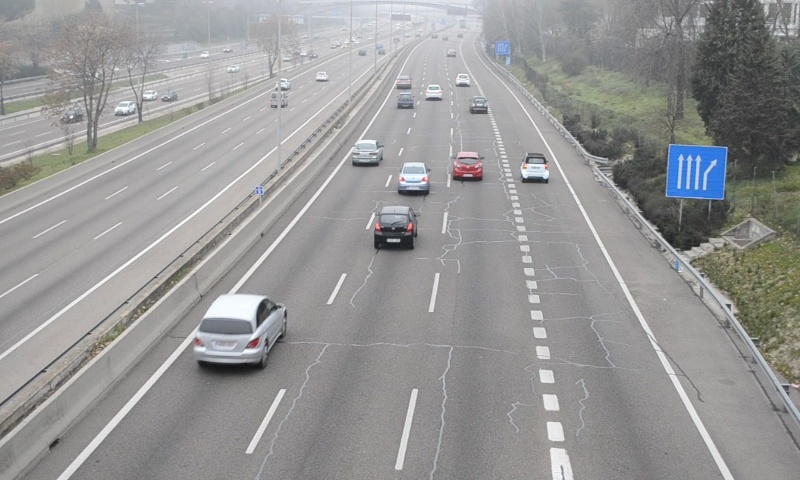car: (191, 294, 285, 366), (374, 205, 417, 247), (397, 162, 431, 198), (520, 153, 550, 184), (452, 152, 483, 182), (351, 140, 384, 167), (424, 83, 443, 102), (469, 96, 489, 114), (396, 92, 416, 110), (395, 74, 412, 90), (454, 73, 471, 88)
